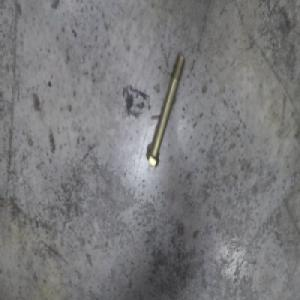Bolt: (146, 52, 188, 168)
